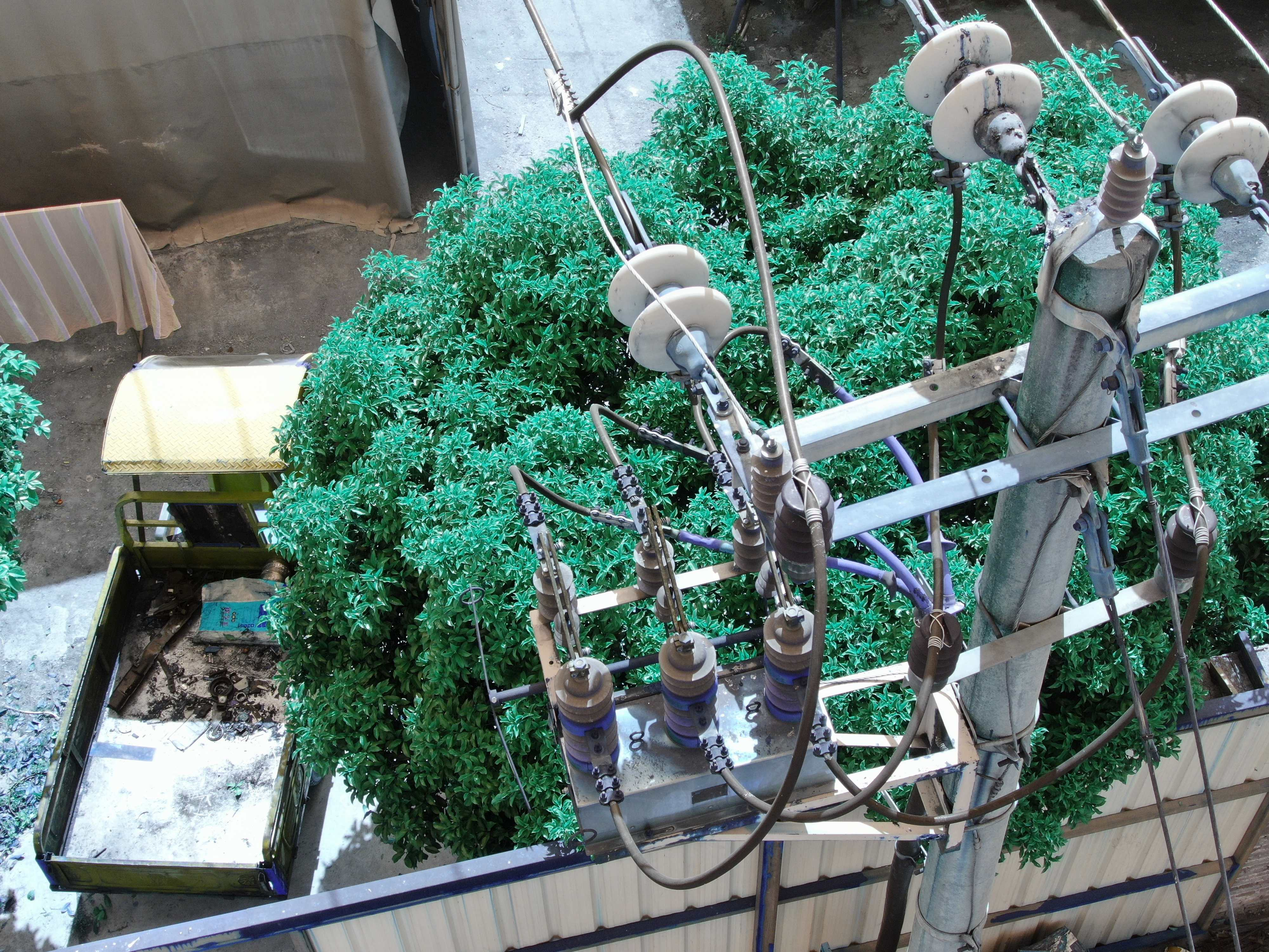severe_soiling_no_discharge_whole: (903, 16, 1051, 168), (1139, 73, 1268, 212)
